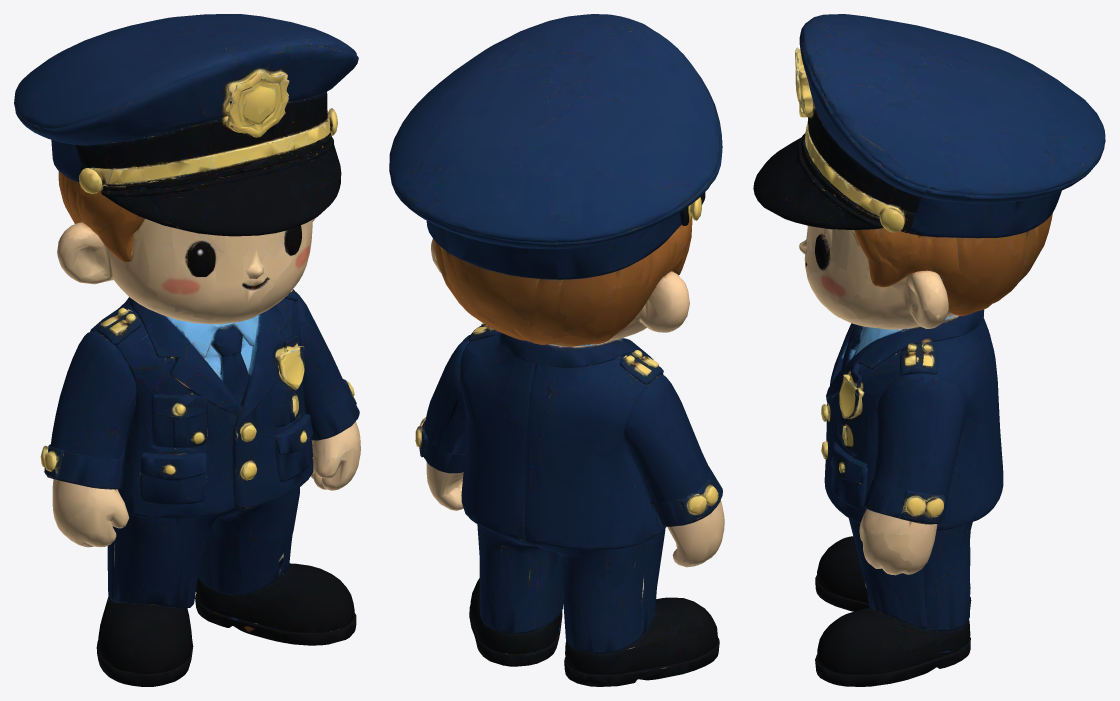
Rendered from upm_mv3pqr6a6ip.glb.
3 views of the same model, side by side, from view 1: azimuth 30°, elevation 25°; view 2: azimuth 150°, elevation 25°; view 3: azimuth 270°, elevation 25° (orthographic). The views are drawn at different scales.
Bounding box in the file's own units: 0.9898 × 1.9 × 1.01.
Materials: 1 (1 with a texture image).
